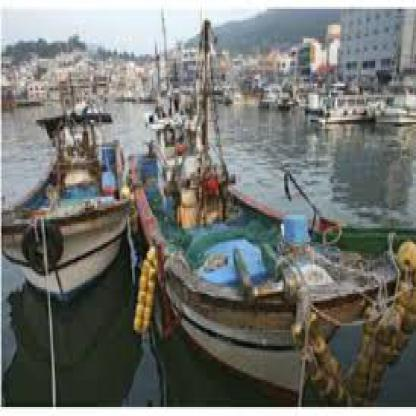fish-b: (132, 31, 415, 415), (0, 84, 141, 305)
